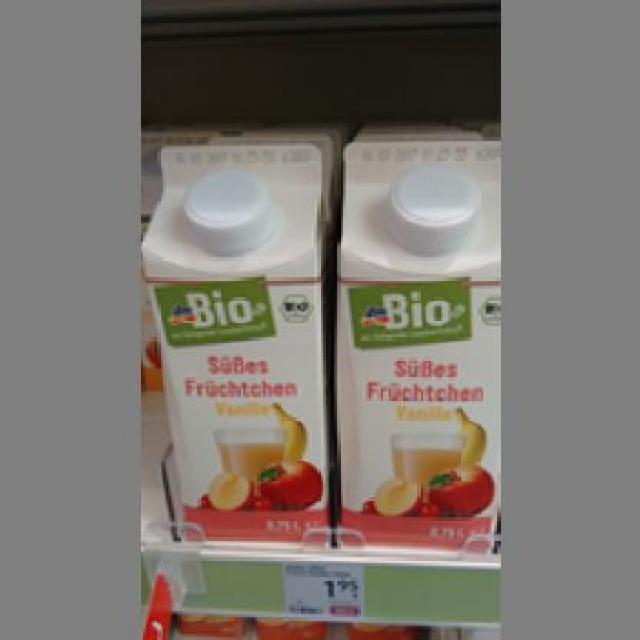Juice: (140, 143, 326, 543), (326, 139, 497, 552)
